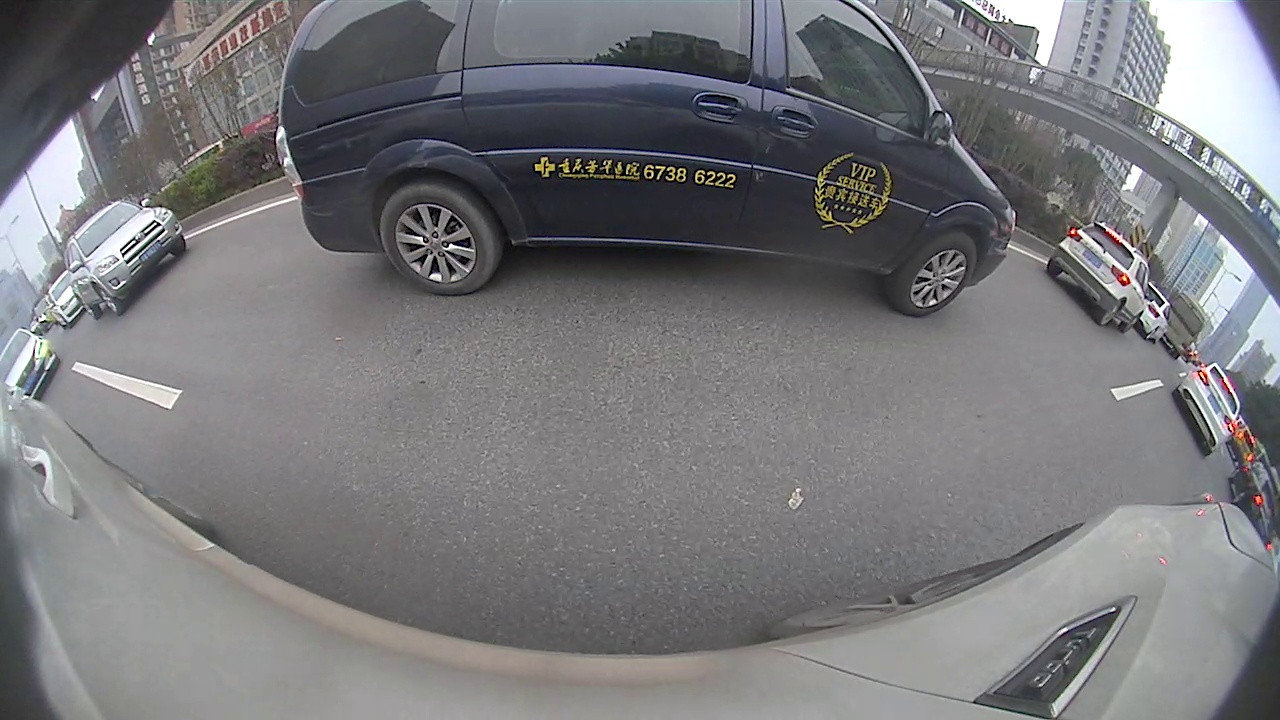car: (274, 2, 1017, 316), (64, 196, 189, 319), (1046, 221, 1153, 334), (1170, 361, 1244, 459)
front: (893, 236, 983, 315), (92, 283, 123, 317)
rear: (379, 183, 496, 297), (1094, 301, 1126, 328)
